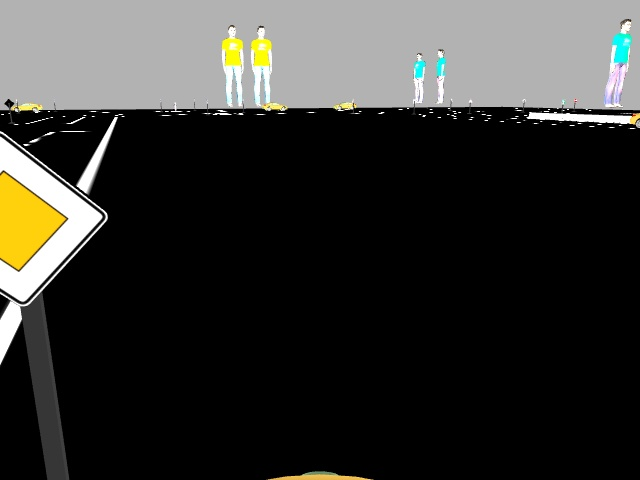Priority: (0, 127, 112, 302)
